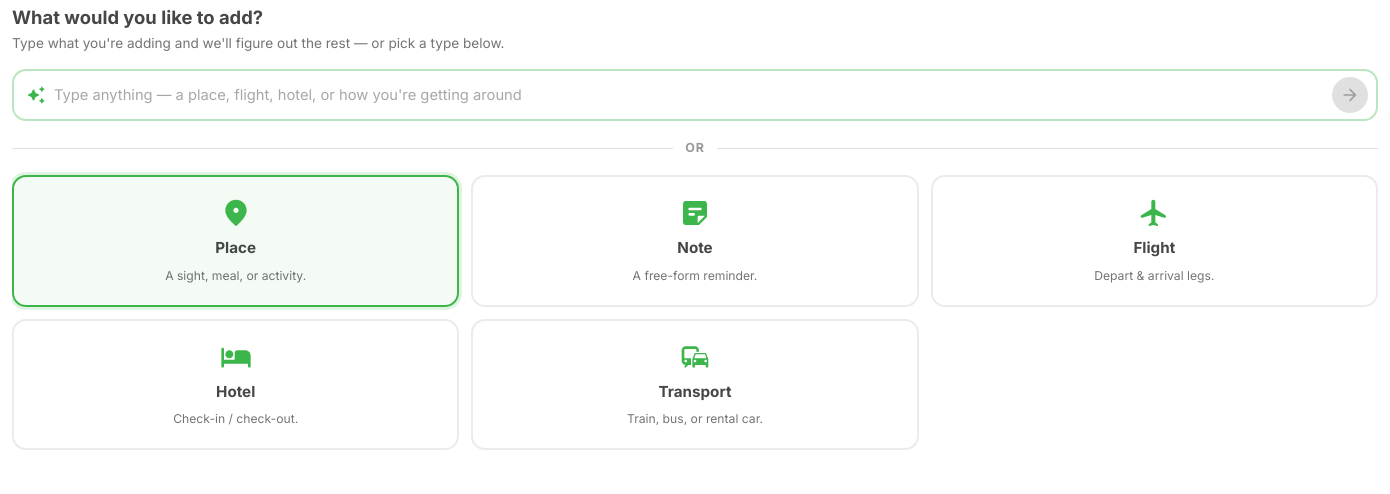
Test: TypeStep › classifies "mount fuji" as Place in the smart box
This screenshot has width=1390, height=494.
Step 1. Type "mount fuji" into the field with placeholder "Type anything" → (689, 95), box [54,78,1324,112]
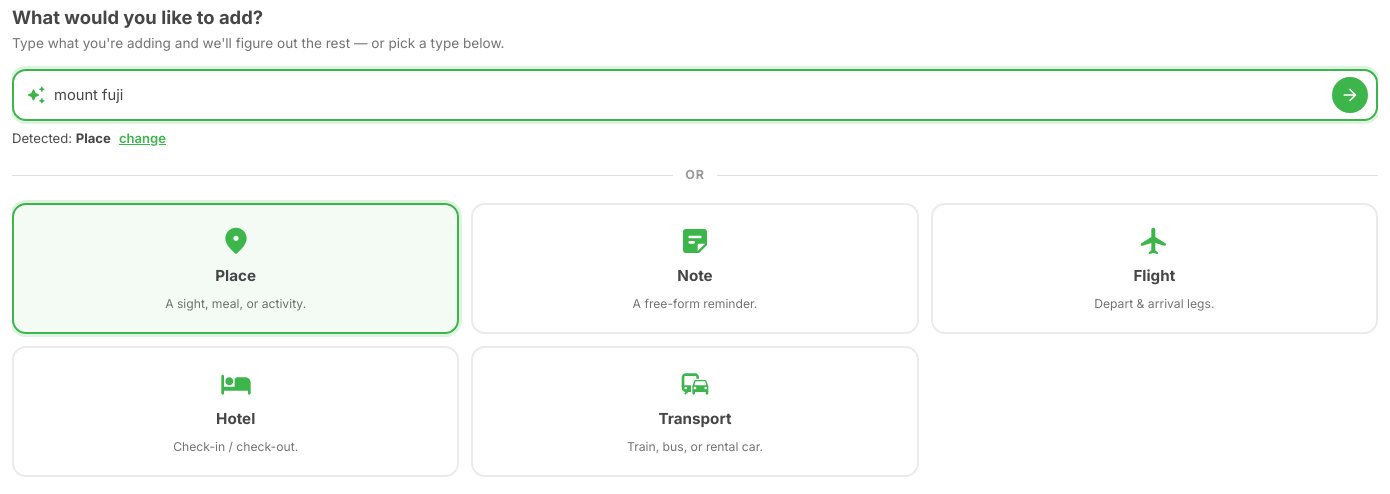
Expected: the text "Place" next to "Detected:" is shown, [76,130,111,146]
